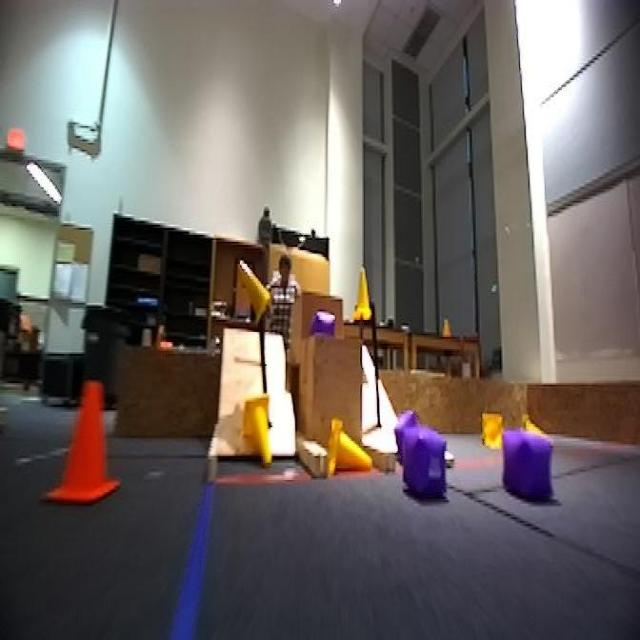frc_cone: (237, 395, 280, 468), (234, 257, 279, 323), (325, 417, 372, 480), (349, 271, 376, 325), (520, 414, 553, 456), (481, 405, 505, 448)
frc_cube: (502, 422, 556, 516), (399, 426, 445, 502), (390, 410, 430, 439), (310, 308, 341, 342)
